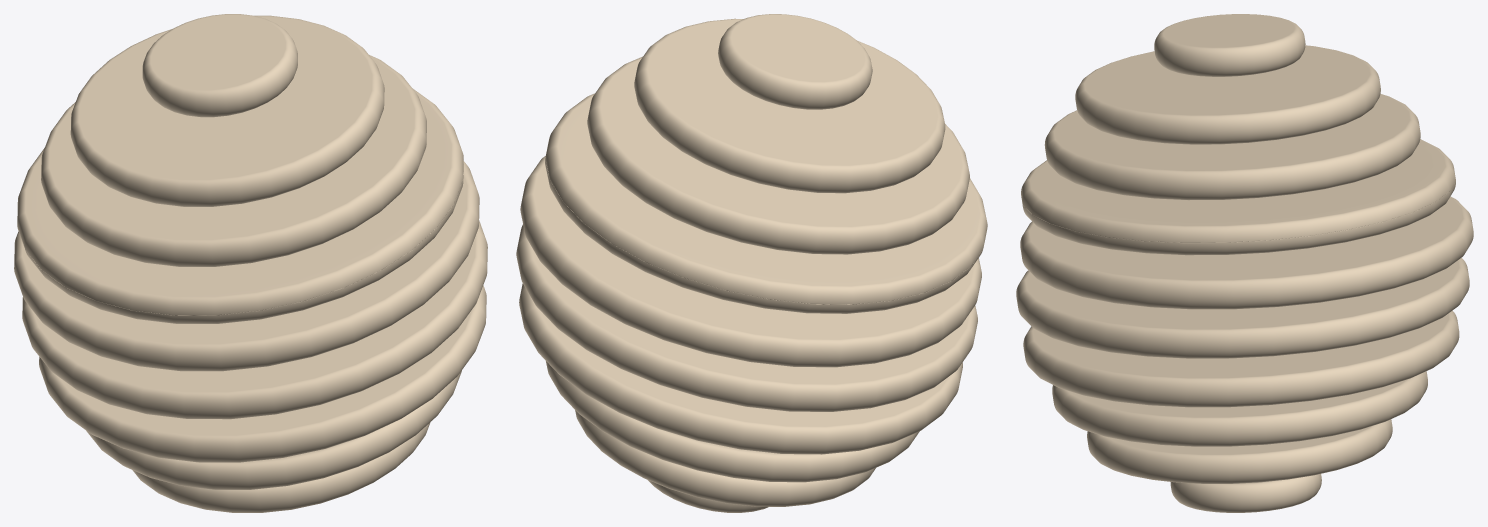
3 renders of one model, left to right at view 1: azimuth 30°, elevation 25°; view 2: azimuth 150°, elevation 25°; view 3: azimuth 270°, elevation 25°, orthographic. The views are drawn at different scales.
Visible parts, largest first — view 1: Cylinder007001, Cylinder009001, Cylinder008001, Cylinder005002, Cylinder005001, Cylinder004001, Cylinder006001, Cylinder003001, Cylinder002001; view 2: Cylinder007001, Cylinder009001, Cylinder008001, Cylinder005002, Cylinder005001, Cylinder004001, Cylinder006001, Cylinder003001, Cylinder002001, Cylinder001001; view 3: Cylinder009001, Cylinder005002, Cylinder005001, Cylinder008001, Cylinder007001, Cylinder004001, Cylinder003001, Cylinder002001, Cylinder006001, Cylinder001001.
Boxes of the visible parts, x1,y1,x2,y2 form: Cylinder007001: [70, 15, 384, 206]; Cylinder009001: [17, 89, 463, 323]; Cylinder008001: [41, 55, 426, 266]; Cylinder005002: [14, 161, 479, 371]; Cylinder005001: [22, 220, 487, 419]; Cylinder004001: [39, 285, 486, 462]; Cylinder006001: [142, 14, 297, 117]; Cylinder003001: [86, 370, 461, 489]; Cylinder002001: [132, 422, 430, 512]; Cylinder007001: [634, 18, 945, 193]; Cylinder009001: [545, 93, 987, 313]; Cylinder008001: [587, 56, 969, 254]; Cylinder005002: [520, 156, 981, 367]; Cylinder005001: [516, 224, 977, 411]; Cylinder004001: [519, 283, 962, 454]; Cylinder006001: [718, 14, 872, 109]; Cylinder003001: [546, 361, 919, 482]; Cylinder002001: [575, 410, 875, 506]; Cylinder001001: [648, 480, 768, 512]; Cylinder009001: [1021, 139, 1455, 255]; Cylinder005002: [1020, 196, 1473, 309]; Cylinder005001: [1016, 258, 1469, 358]; Cylinder008001: [1044, 94, 1420, 200]; Cylinder007001: [1075, 45, 1380, 144]; Cylinder004001: [1023, 310, 1459, 407]; Cylinder003001: [1052, 371, 1427, 446]; Cylinder002001: [1087, 419, 1392, 483]; Cylinder006001: [1154, 14, 1305, 76]; Cylinder001001: [1170, 474, 1321, 512].
Size of the model in its own units: 2.29 by 2.49 by 2.29.
